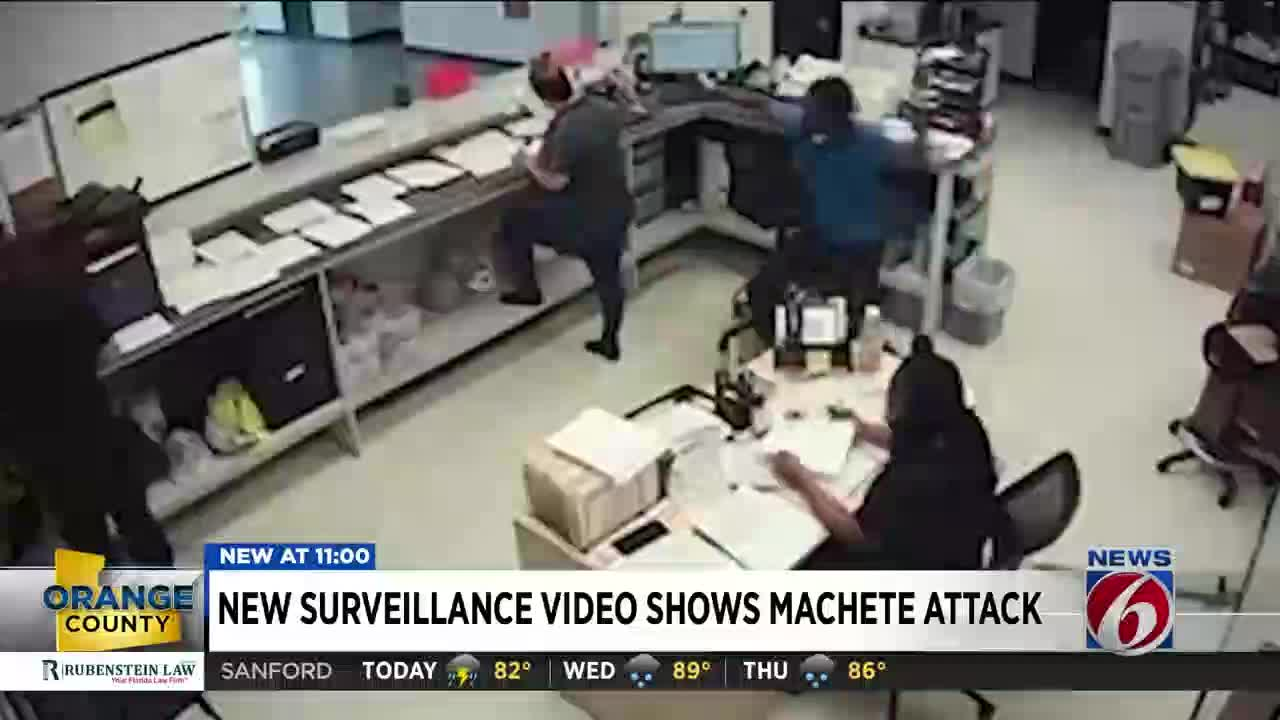knife: (675, 61, 723, 102)
knife in hand: (690, 69, 799, 127)
person: (476, 44, 662, 337), (804, 338, 1001, 559), (763, 76, 924, 328)
